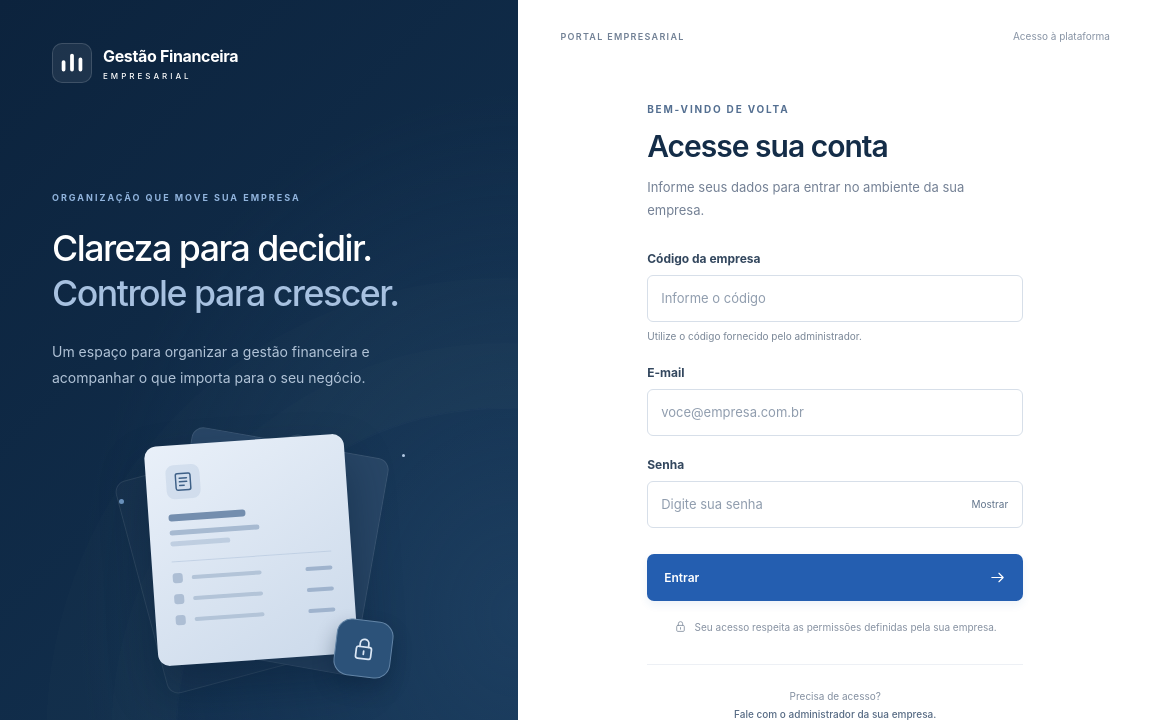
Test case: Acesso empresarial › exibe erro genérico para credenciais inválidas e limpa somente a senha
Step 1. Type "7" into the field labelled "Código da empresa" → (835, 298), box [647,275,1023,322]
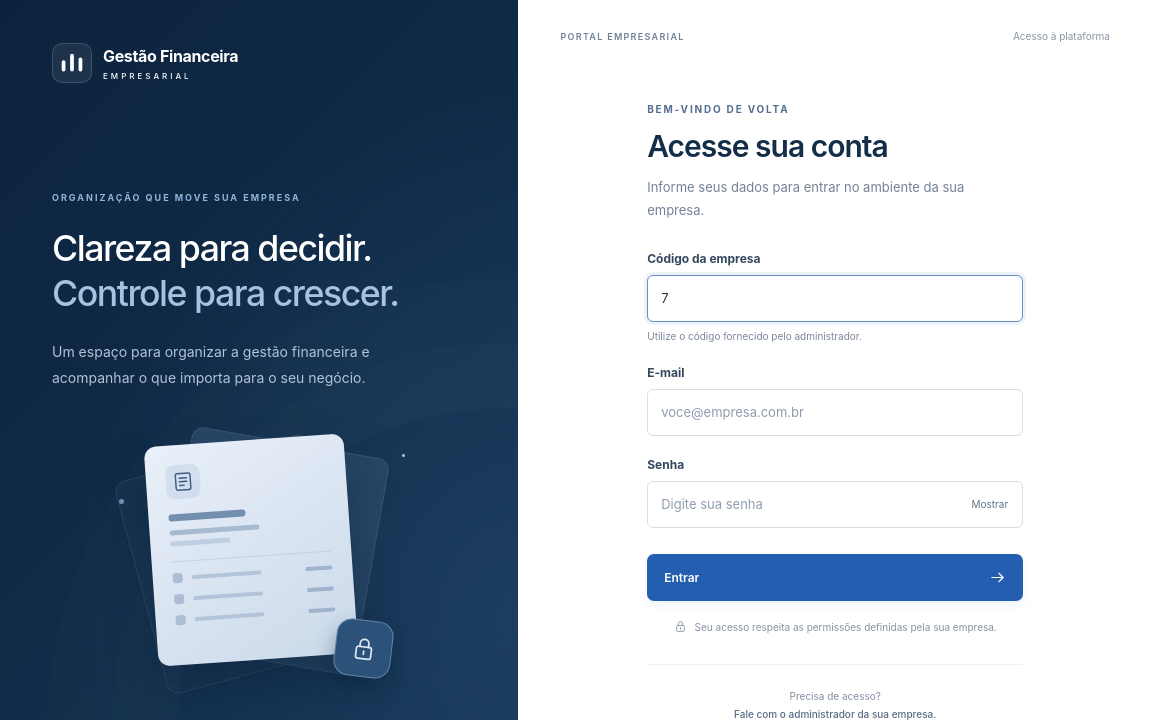
Step 2. Type "ana@teste.invalid" into the field labelled "E-mail" → (835, 412), box [647,389,1023,436]
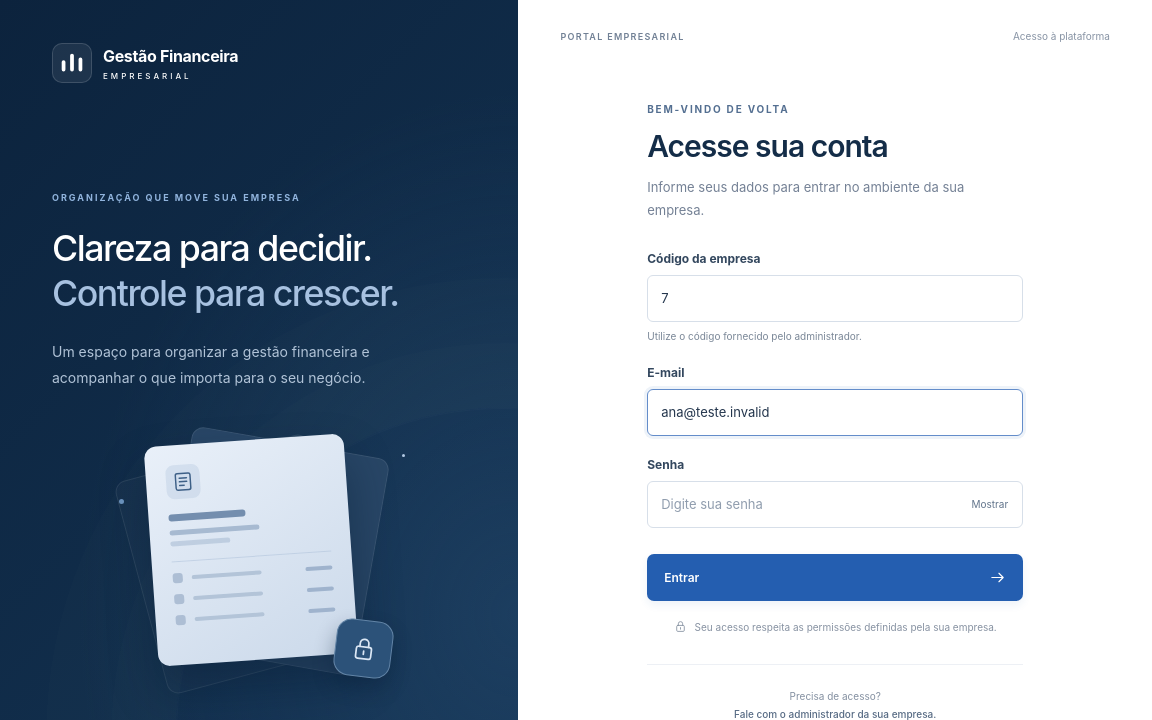
Step 3. Type "senha-ficticia" into the password field labelled "Senha" → (835, 504), box [647,481,1023,528]
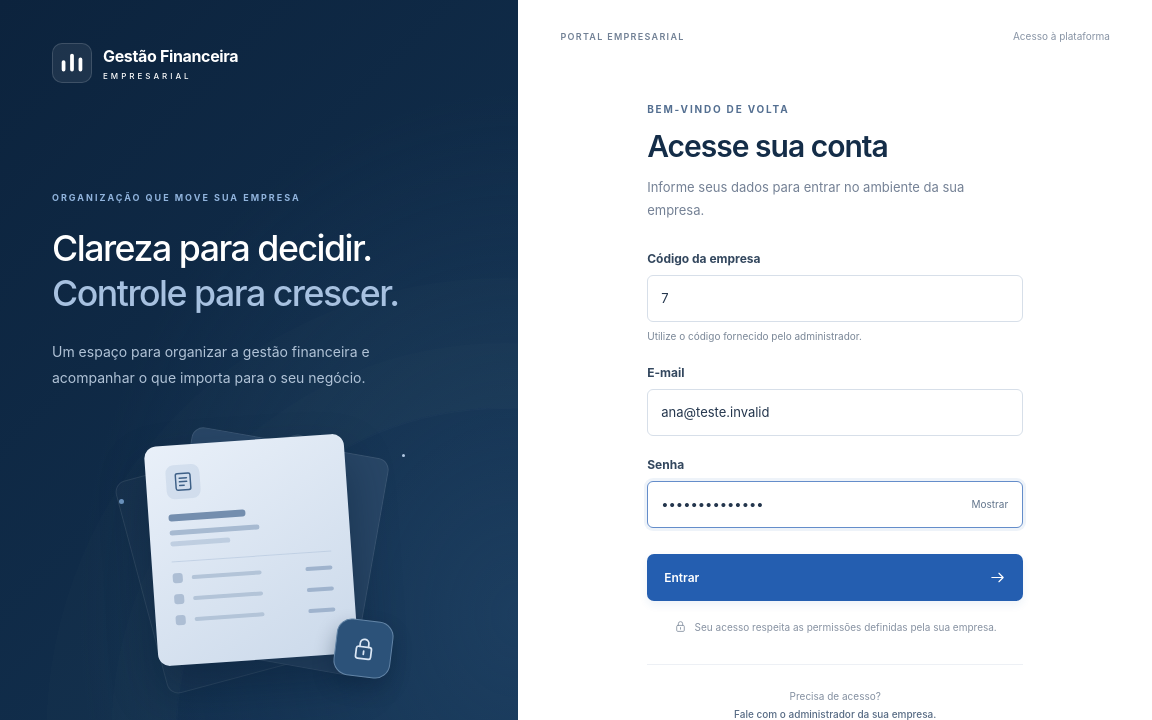
Step 4. Click the button "Entrar" → (682, 577), box [647,554,1023,601]
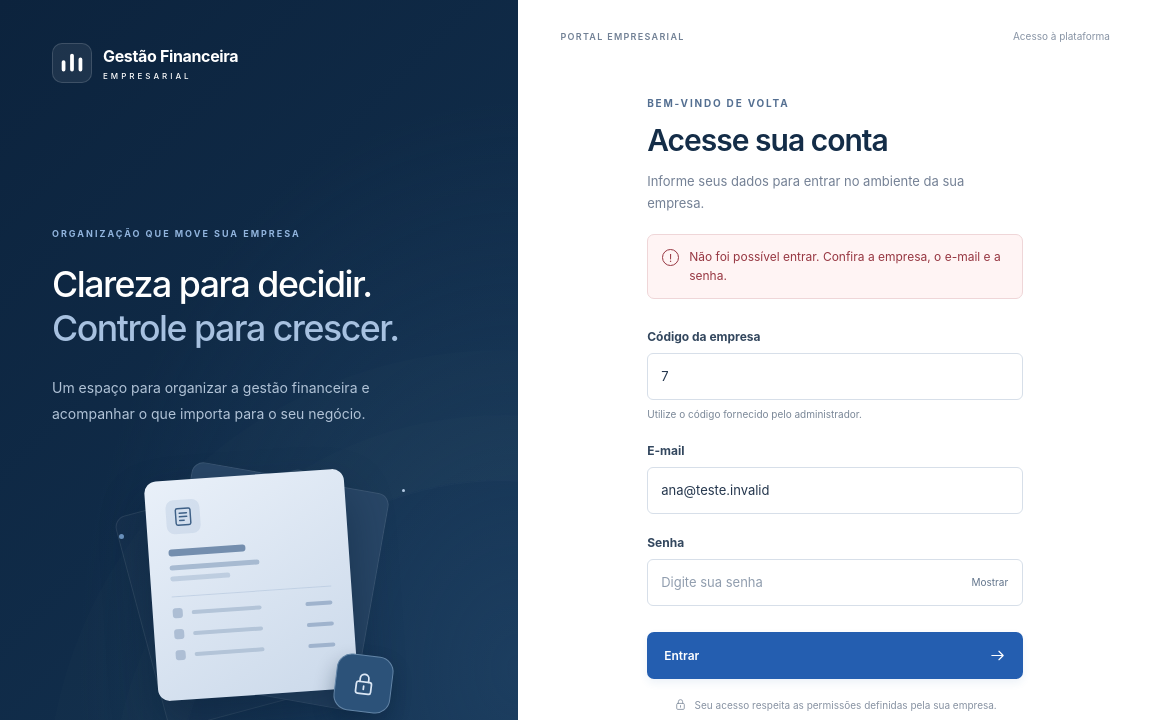
Expected: the message "! Não foi possível entrar. Confira a empresa, o e-mail e a senha." is shown, [647,234,1023,299]
Expected: the text "Confira a empresa, o e-mail e a senha" is shown, [689,249,1001,283]
Expected: the password field labelled "Senha" is empty, [647,559,1023,606]
